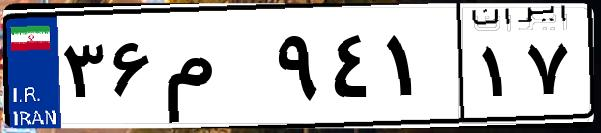1: (385, 28, 445, 110), (475, 38, 525, 113)
3: (57, 26, 110, 100)
4: (330, 28, 385, 110)
6: (110, 28, 158, 98)
7: (525, 38, 570, 115)
9: (270, 28, 330, 110)
م: (158, 20, 270, 120)
